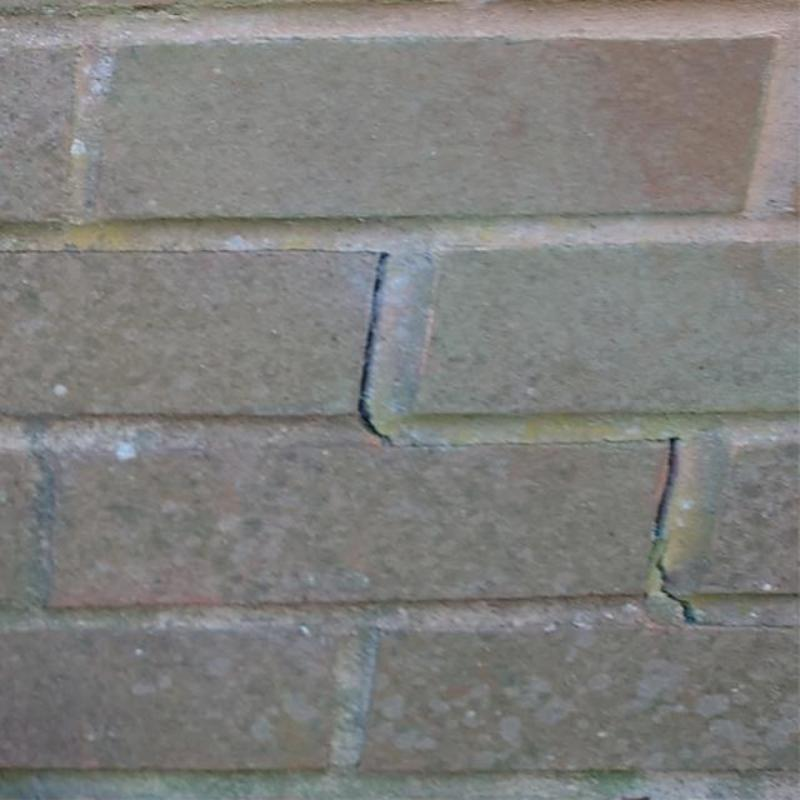pothole: (358, 253, 389, 439), (0, 245, 385, 258), (385, 435, 670, 451), (654, 548, 698, 623), (652, 438, 678, 541), (691, 619, 799, 631)
